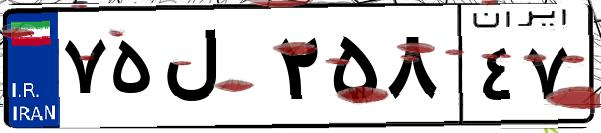2: (270, 28, 330, 110)
4: (475, 38, 525, 113)
5: (330, 28, 385, 110), (110, 28, 158, 98)
7: (57, 26, 110, 100), (525, 38, 570, 115)
8: (385, 28, 445, 110)
ل: (158, 20, 270, 120)
